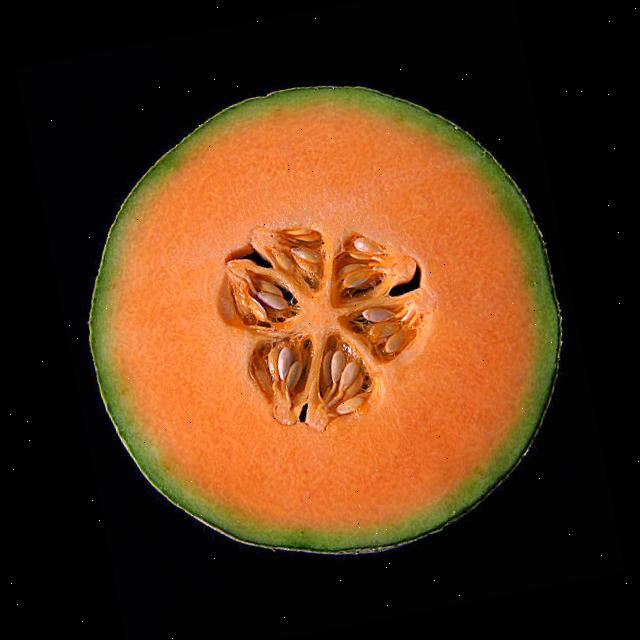Hami Melon: (48, 44, 600, 602)
